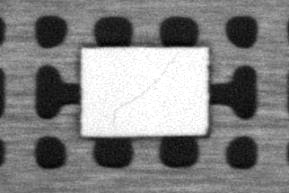DIE_CRACK: (112, 52, 176, 121)
